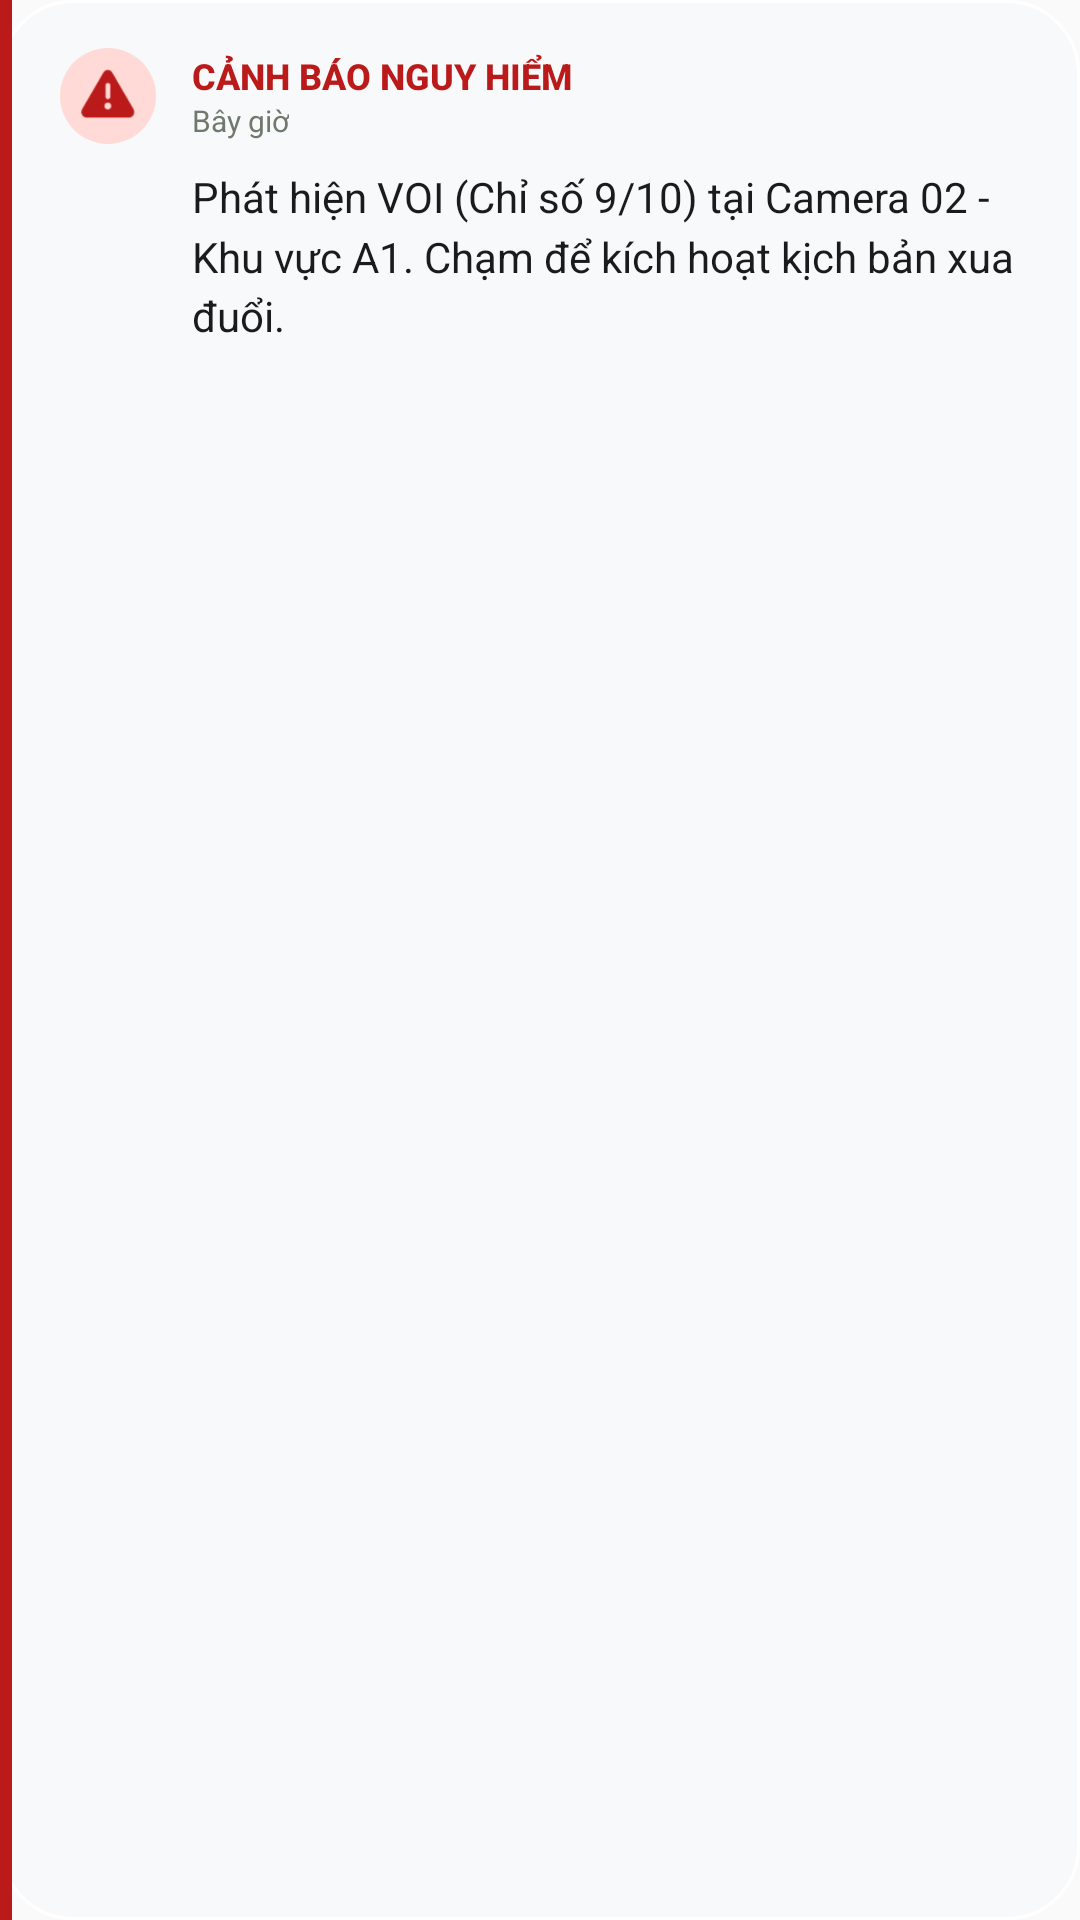

Screen size 1080px×1920px. Icon name, then its box in pixels as (x1=x1, y1=y1, x2=x2, y2=y2):
alert: (x1=81, y1=69, x2=135, y2=118)
